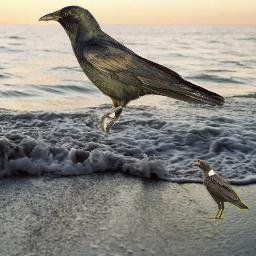Crow: (36, 4, 227, 132), (192, 159, 249, 220)
